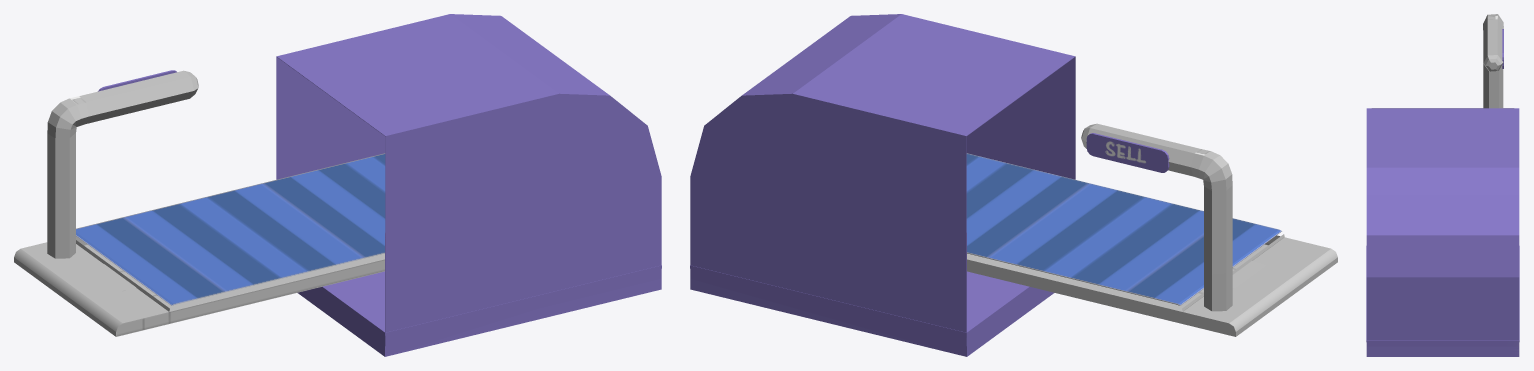
The model's file is cake_sell (3).fbx.
3 views of the same model, side by side, from view 1: azimuth 30°, elevation 25°; view 2: azimuth 150°, elevation 25°; view 3: azimuth 270°, elevation 25° (orthographic). The views are drawn at different scales.
Visible parts, largest first — view 1: Cube.033, Cube.034, Cube.018; view 2: Cube.033, Cube.034, Cube.018, Cube.028; view 3: Cube.033, Cube.018.
Boxes of the visible parts, x1=… form: Cube.033: x1=14, y1=14, x2=661, y2=356; Cube.034: x1=76, y1=153, x2=385, y2=305; Cube.018: x1=47, y1=70, x2=198, y2=258; Cube.033: x1=690, y1=14, x2=1337, y2=356; Cube.034: x1=966, y1=153, x2=1281, y2=305; Cube.018: x1=1081, y1=123, x2=1232, y2=311; Cube.028: x1=1086, y1=133, x2=1169, y2=172; Cube.033: x1=1366, y1=108, x2=1519, y2=356; Cube.018: x1=1483, y1=14, x2=1503, y2=108.
Size of the model in its own units: 10.67 by 4.59 by 3.73.
1 material, 1 textured.
